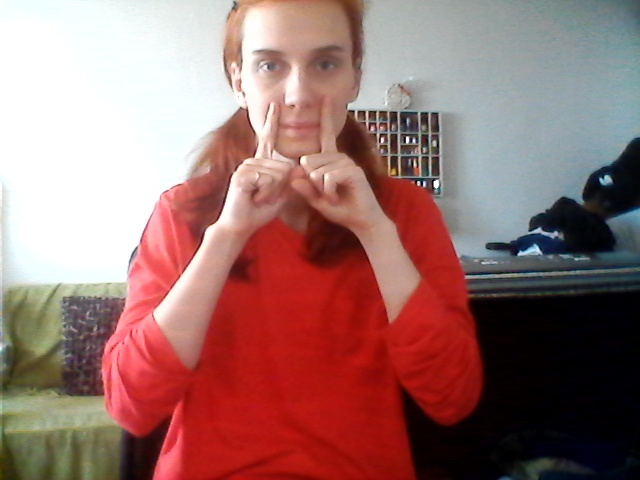h: (227, 95, 378, 227)
